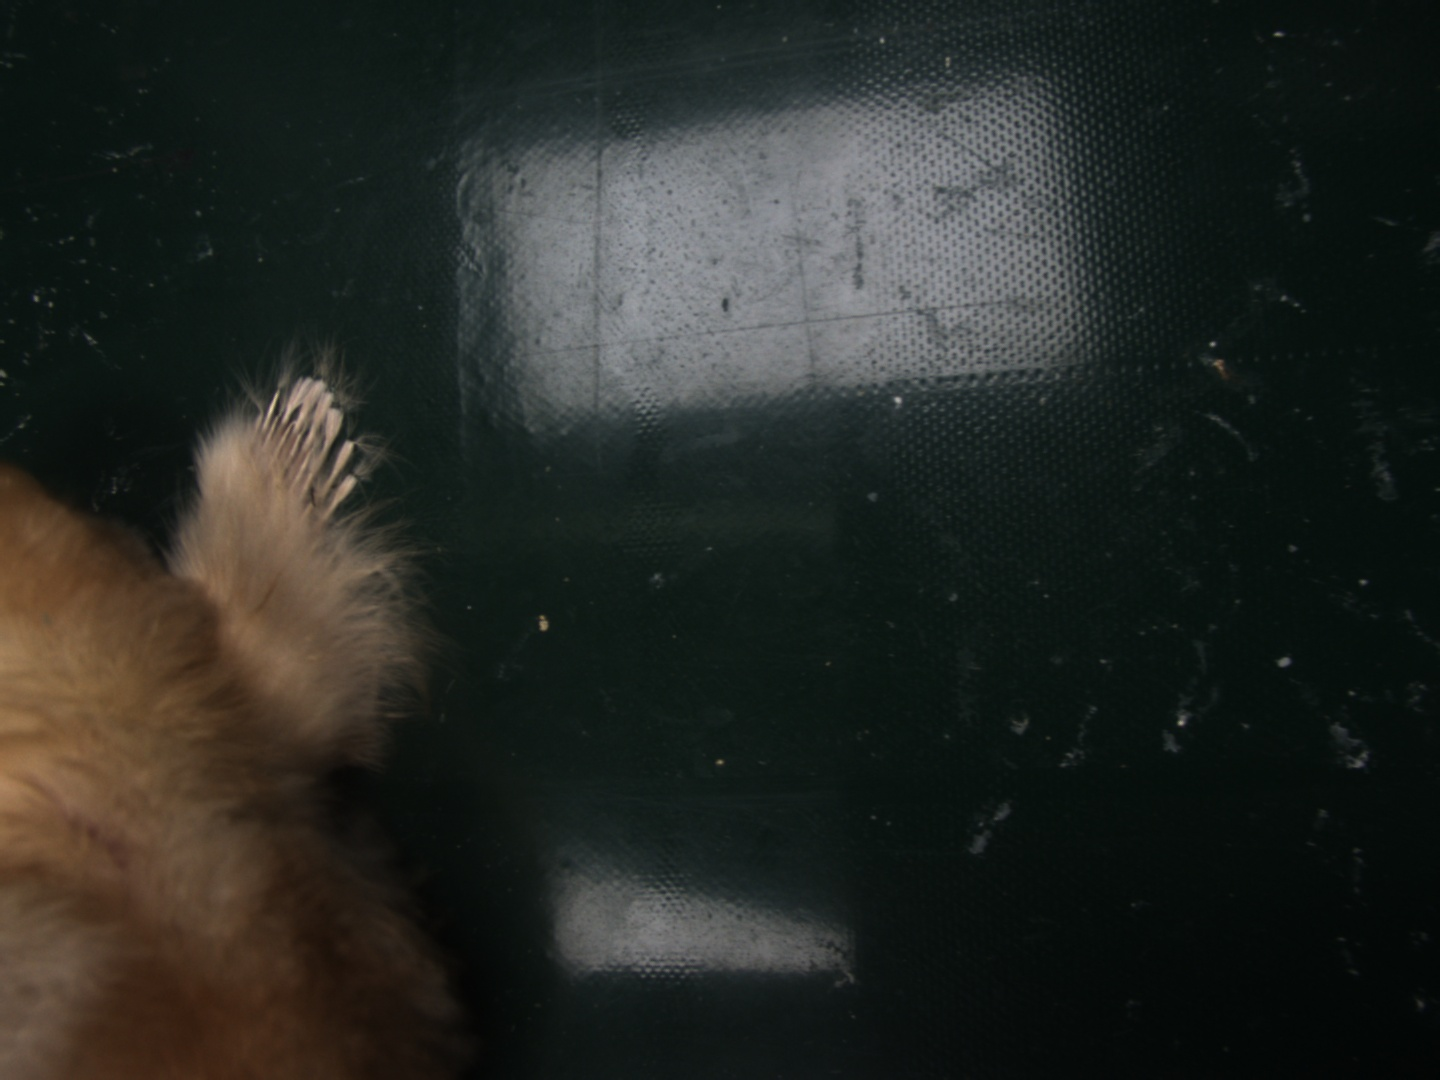female: (242, 376, 364, 547)
